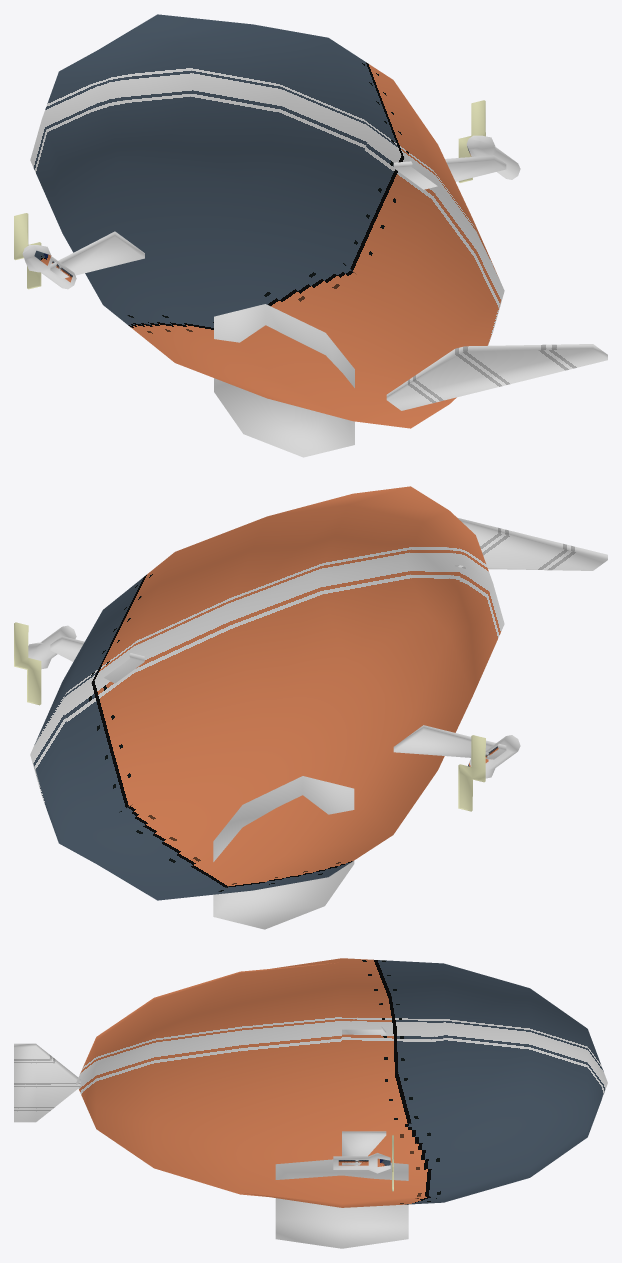
File: ps2_save-icons_windabreathofheart.glb
3 renders of one model, top to bottom at view 1: azimuth 30°, elevation 25°; view 2: azimuth 150°, elevation 25°; view 3: azimuth 270°, elevation 25°, orthographic. The views are drawn at different scales.
Visible parts, largest first — view 1: ICON.ICO; view 2: ICON.ICO; view 3: ICON.ICO.
Part boxes in pixels (left/top/right/bottom): ICON.ICO: left=14, top=14, right=607, bottom=457; ICON.ICO: left=14, top=486, right=607, bottom=929; ICON.ICO: left=14, top=958, right=607, bottom=1248.
Size of the model in its own units: 2.28 by 1.69 by 3.35.
Materials: 1 (1 with a texture image).
